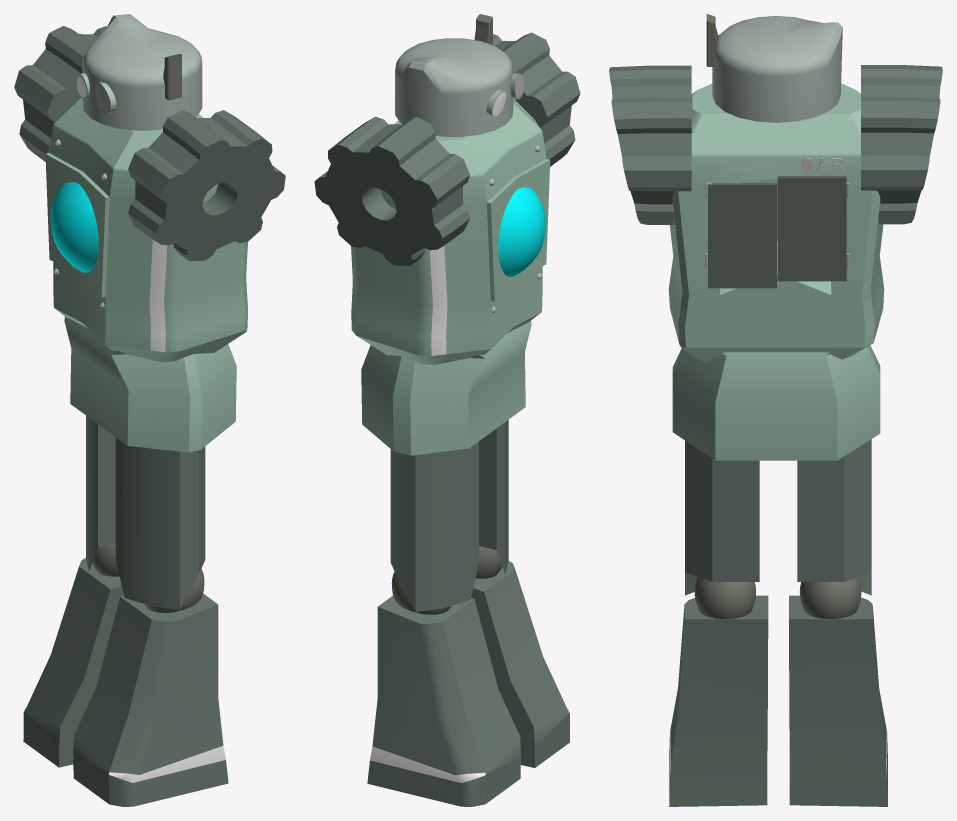
File: Gar No Arms.fbx
3 views of the same model, side by side, from view 1: azimuth 30°, elevation 25°; view 2: azimuth 150°, elevation 25°; view 3: azimuth 270°, elevation 25° (orthographic). The views are drawn at different scales.
Parts seen in each view (by area): view 1: pasted__temp_leg3, polySurface5, pasted__ori_leg, pGear2, pasted__hips, polySurface4, pGear1, polySurface8, Atenna, pSphere11, pSphere15, polySurface7; view 2: pasted__temp_leg3, polySurface5, pasted__ori_leg, pGear1, pasted__hips, polySurface4, pGear2, polySurface8, pSphere15, pSphere11; view 3: pasted__temp_leg3, polySurface5, pasted__hips, pasted__ori_leg, polySurface4, pGear2, pGear1, polySurface13, polySurface14, pSphere15, pSphere11.
Part boxes in pixels (x1=…): pasted__temp_leg3: x1=23, y1=558, x2=228, y2=806; polySurface5: x1=45, y1=95, x2=247, y2=362; pasted__ori_leg: x1=86, y1=415, x2=205, y2=609; pGear2: x1=128, y1=110, x2=285, y2=261; pasted__hips: x1=64, y1=317, x2=236, y2=452; polySurface4: x1=82, y1=14, x2=202, y2=130; pGear1: x1=14, y1=26, x2=106, y2=161; polySurface8: x1=50, y1=182, x2=98, y2=272; Atenna: x1=163, y1=54, x2=181, y2=100; pSphere11: x1=92, y1=543, x2=119, y2=576; pSphere15: x1=144, y1=569, x2=204, y2=612; polySurface7: x1=95, y1=82, x2=116, y2=113; pasted__temp_leg3: x1=367, y1=561, x2=569, y2=806; polySurface5: x1=351, y1=99, x2=550, y2=364; pasted__ori_leg: x1=390, y1=420, x2=508, y2=611; pGear1: x1=314, y1=116, x2=469, y2=265; pasted__hips: x1=361, y1=321, x2=531, y2=455; polySurface4: x1=395, y1=38, x2=513, y2=136; pGear2: x1=493, y1=32, x2=580, y2=166; polySurface8: x1=498, y1=187, x2=545, y2=276; pSphere15: x1=475, y1=546, x2=502, y2=578; pSphere11: x1=391, y1=572, x2=451, y2=614; pasted__temp_leg3: x1=669, y1=595, x2=887, y2=806; polySurface5: x1=668, y1=83, x2=884, y2=362; pasted__hips: x1=672, y1=345, x2=880, y2=460; pasted__ori_leg: x1=685, y1=439, x2=871, y2=595; polySurface4: x1=712, y1=16, x2=842, y2=122; pGear2: x1=609, y1=65, x2=691, y2=224; pGear1: x1=861, y1=65, x2=942, y2=224; polySurface13: x1=777, y1=176, x2=846, y2=281; polySurface14: x1=708, y1=183, x2=776, y2=288; pSphere15: x1=694, y1=577, x2=755, y2=619; pSphere11: x1=799, y1=577, x2=861, y2=619.
Size of the model in its own units: 2.67 by 11.78 by 4.62.
